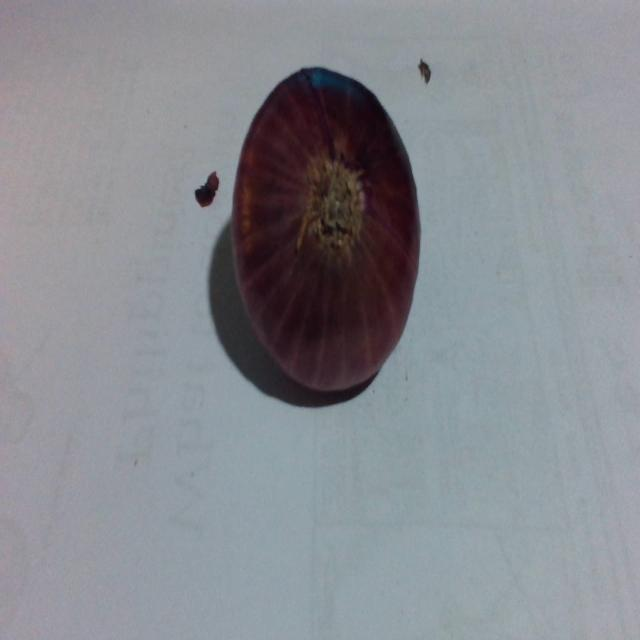onion: (234, 68, 422, 399)
